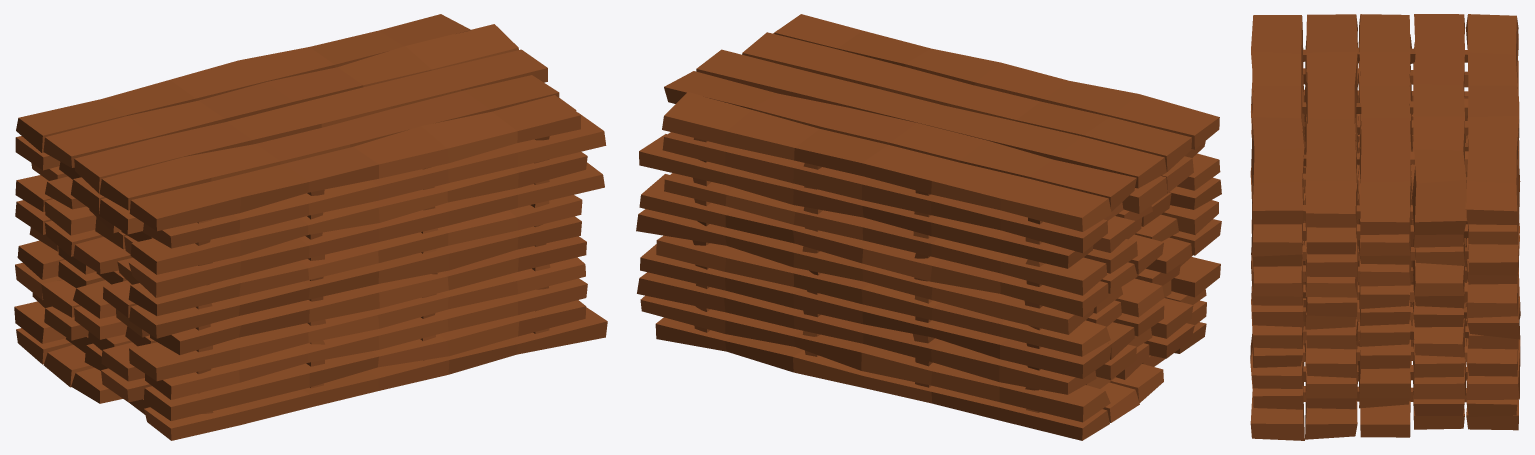
Rendered from Дошки.fbx.
3 views of the same model, side by side, from view 1: azimuth 30°, elevation 25°; view 2: azimuth 150°, elevation 25°; view 3: azimuth 270°, elevation 25° (orthographic). The views are drawn at different scales.
Visible parts, largest first — view 1: Куб.001; view 2: Куб.001; view 3: Куб.001.
Part boxes in pixels (x1,y1,x2,y2): Куб.001: (14,14,607,440); Куб.001: (636,14,1221,440); Куб.001: (1250,14,1520,440).
Size of the model in its own units: 2637 by 1292 by 1434.
